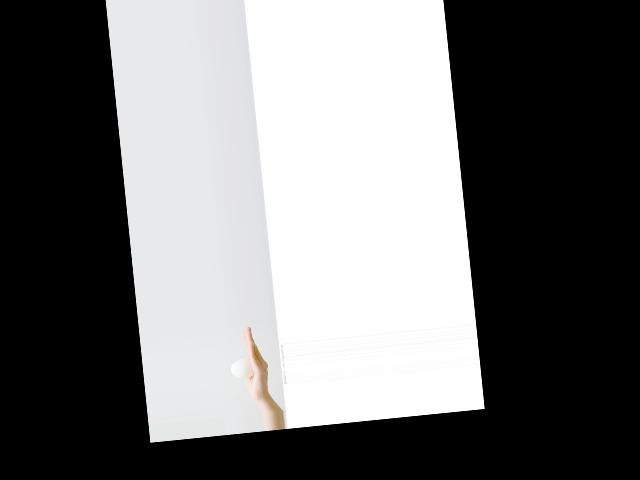egg: (230, 358, 254, 378)
